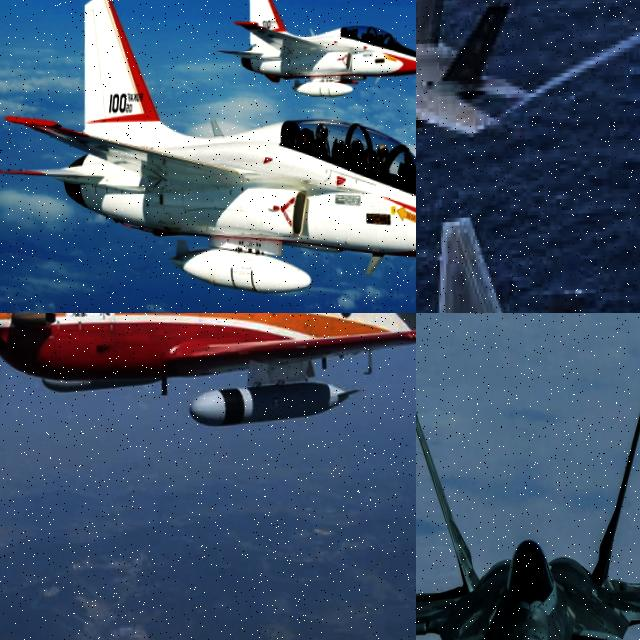F22: (416, 355, 640, 640), (416, 211, 640, 313), (416, 0, 533, 146)
KT-1: (0, 0, 416, 301), (0, 313, 416, 438), (213, 0, 416, 100)
